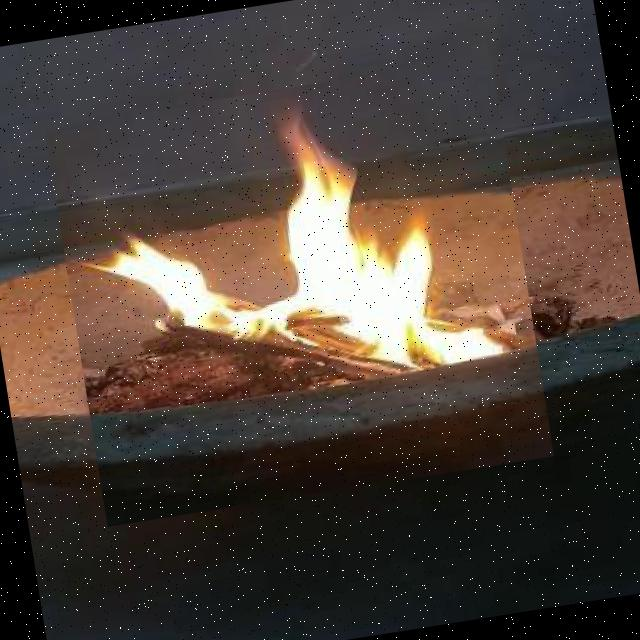fire: (44, 56, 554, 527)
